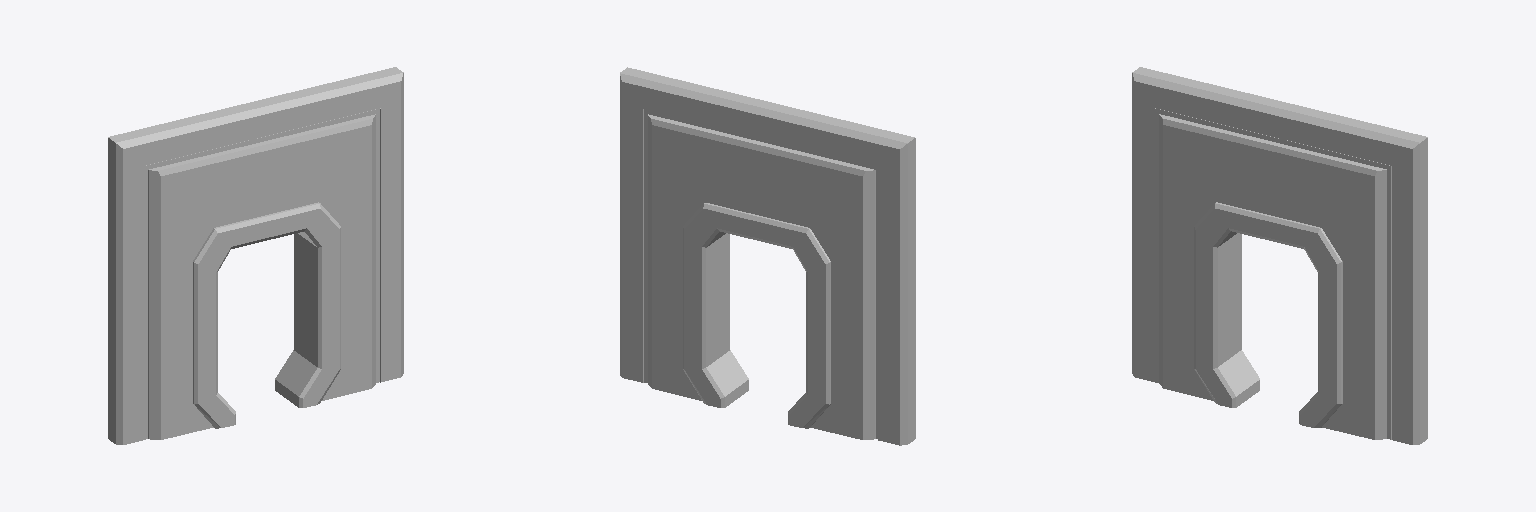
File: Wall_With_Door_Orange.obj
3 views of the same model, side by side, from view 1: azimuth 30°, elevation 25°; view 2: azimuth 150°, elevation 25°; view 3: azimuth 330°, elevation 25° (orthographic).
Visible parts, largest first — view 1: Wall_With_Door_Orange; view 2: Wall_With_Door_Orange; view 3: Wall_With_Door_Orange.
Boxes of the visible parts, <box> form: Wall_With_Door_Orange: <box>108,67,403,444</box>; Wall_With_Door_Orange: <box>620,67,915,445</box>; Wall_With_Door_Orange: <box>1132,67,1427,444</box>.
Size of the model in its own units: 4 by 4 by 0.6475.